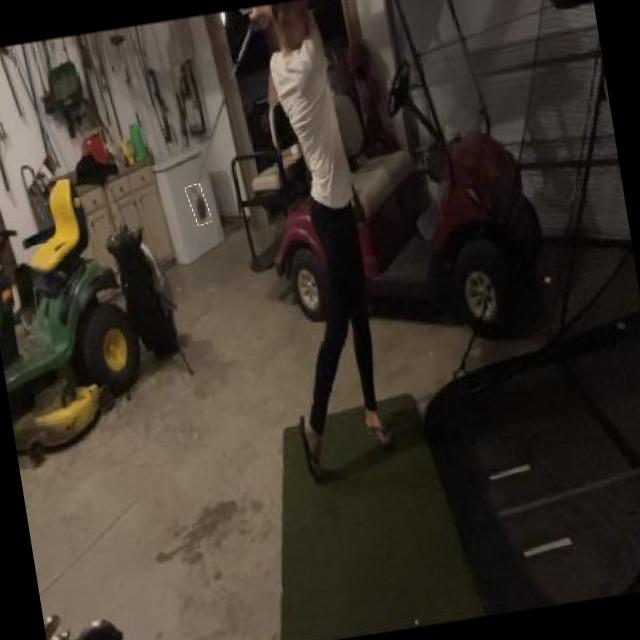club head: (186, 182, 212, 226)
